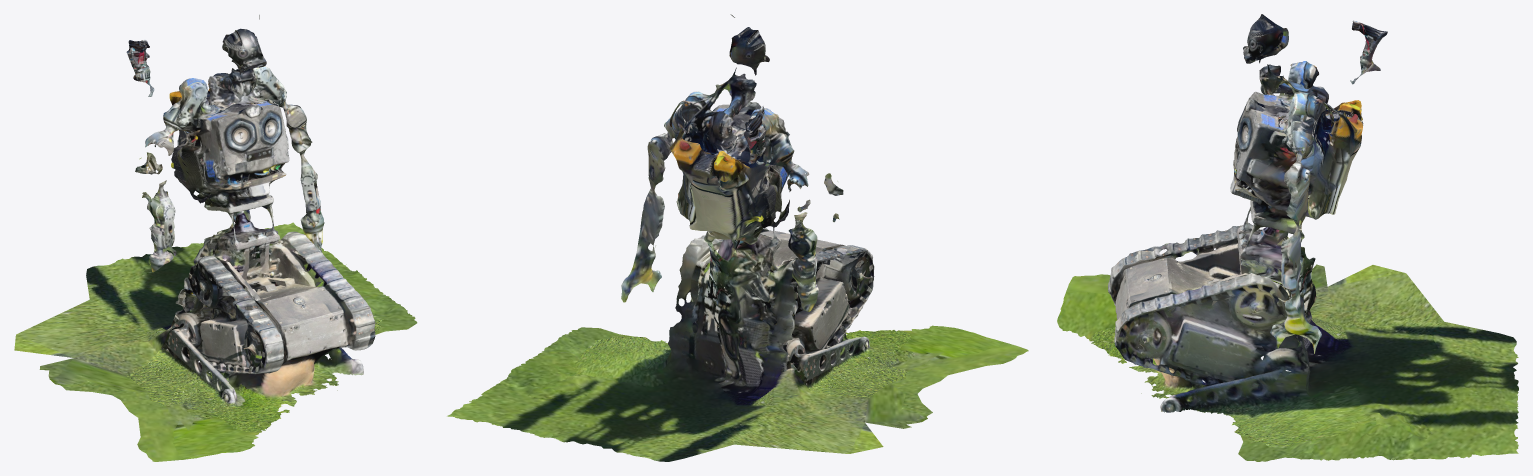
File: rob-flipper-lifted-head-upright.glb
3 views of the same model, side by side, from view 1: azimuth 30°, elevation 25°; view 2: azimuth 150°, elevation 25°; view 3: azimuth 270°, elevation 25° (orthographic). The views are drawn at different scales.
Visible parts, largest first — view 1: ROB flipper lifted head upright; view 2: ROB flipper lifted head upright; view 3: ROB flipper lifted head upright.
Boxes of the visible parts, box(x1,y1,x2,y2) form: ROB flipper lifted head upright: box(14, 15, 417, 461); ROB flipper lifted head upright: box(447, 14, 1028, 461); ROB flipper lifted head upright: box(1057, 14, 1518, 461).
Bounding box in the file's own units: 1.28 × 1.19 × 1.36.
Materials: 1 (1 with a texture image).
